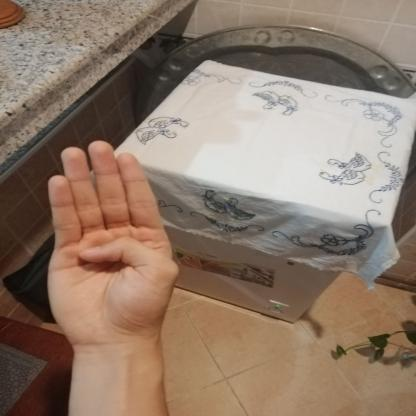KAAF: (21, 129, 207, 362)
